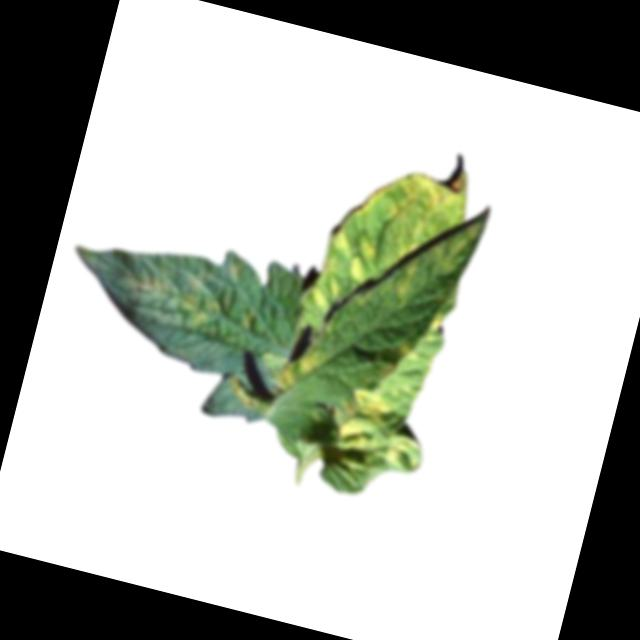Leaf_Mold: (308, 145, 497, 340), (322, 376, 434, 477), (116, 264, 261, 340), (267, 340, 324, 399)
